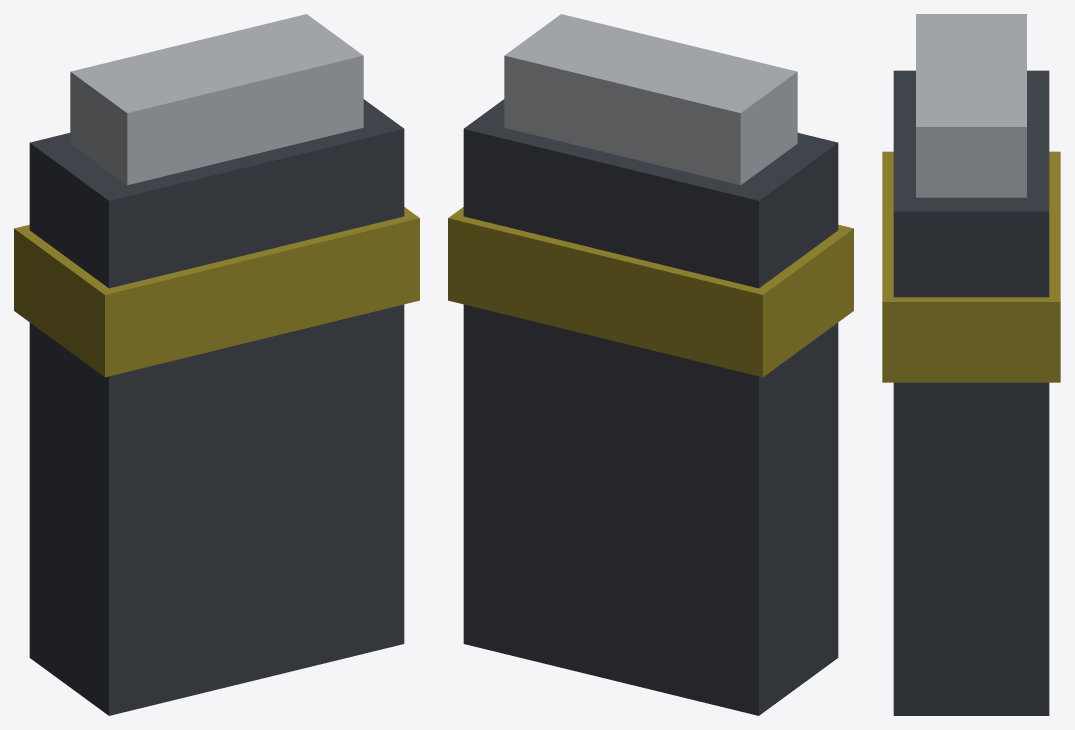
The model's file is flechette-clip-fragmentation.lod.glb.
3 renders of one model, left to right at view 1: azimuth 30°, elevation 25°; view 2: azimuth 150°, elevation 25°; view 3: azimuth 270°, elevation 25°, orthographic. The views are drawn at different scales.
Visible parts, largest first — view 1: m; view 2: m; view 3: m.
Part boxes in pixels (x1,y1,x2,y2): m: [14, 14, 419, 715]; m: [448, 14, 853, 715]; m: [882, 14, 1060, 715].
Bounding box in the file's own units: 0.0281 × 0.05 × 0.014.
